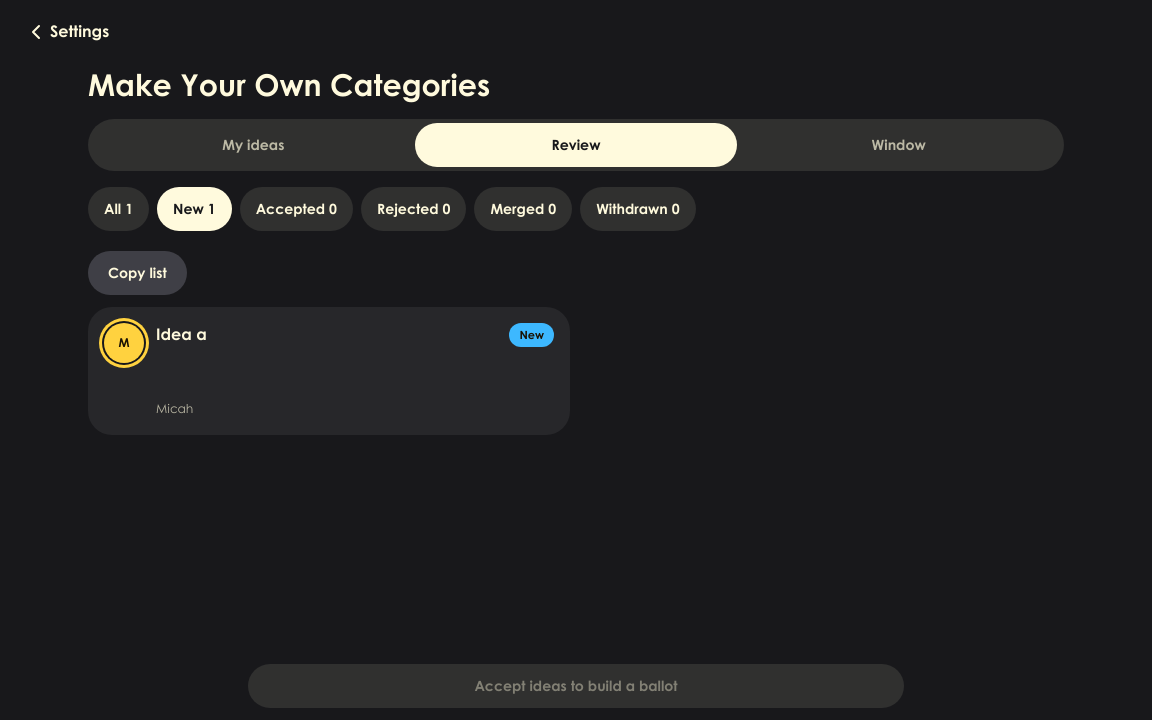
Test: committee › accepts an idea with edited wording and a category label
This screenshot has width=1152, height=720.
Later steps or results of the test are not shown.
Step 1. Click the button with aria-label "Review Idea a" → [124, 343], box [88,307,570,435]
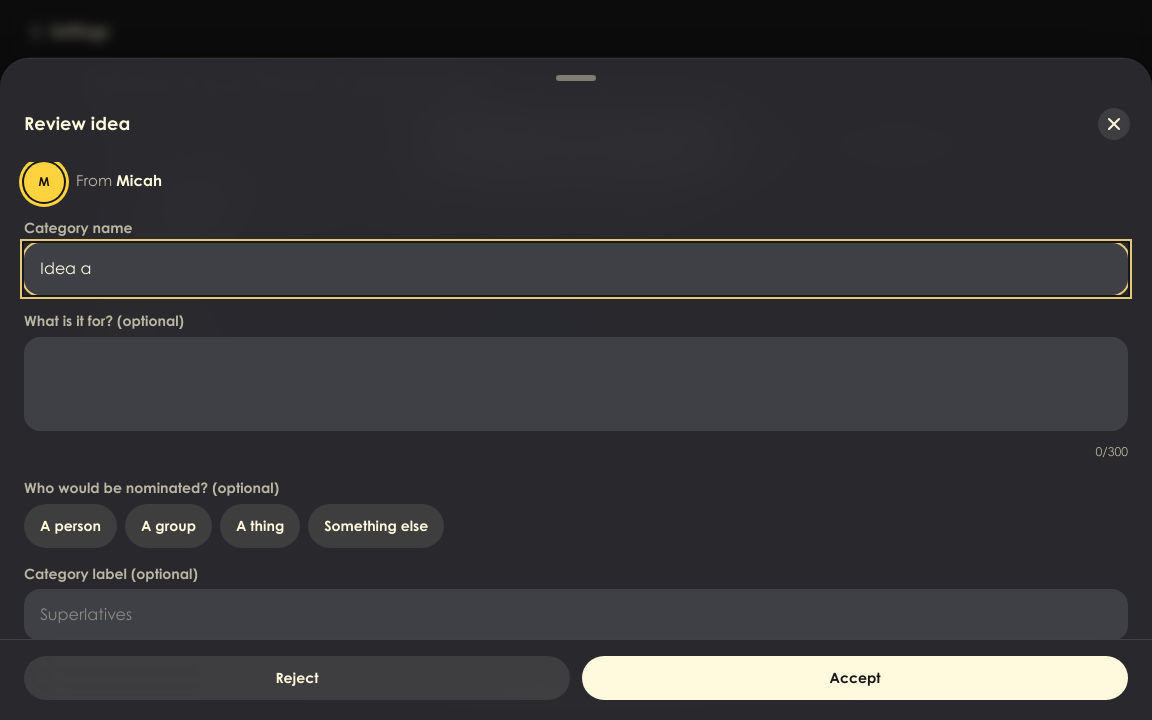
Expected: the text "Micah" is shown, [116,171,162,189]
